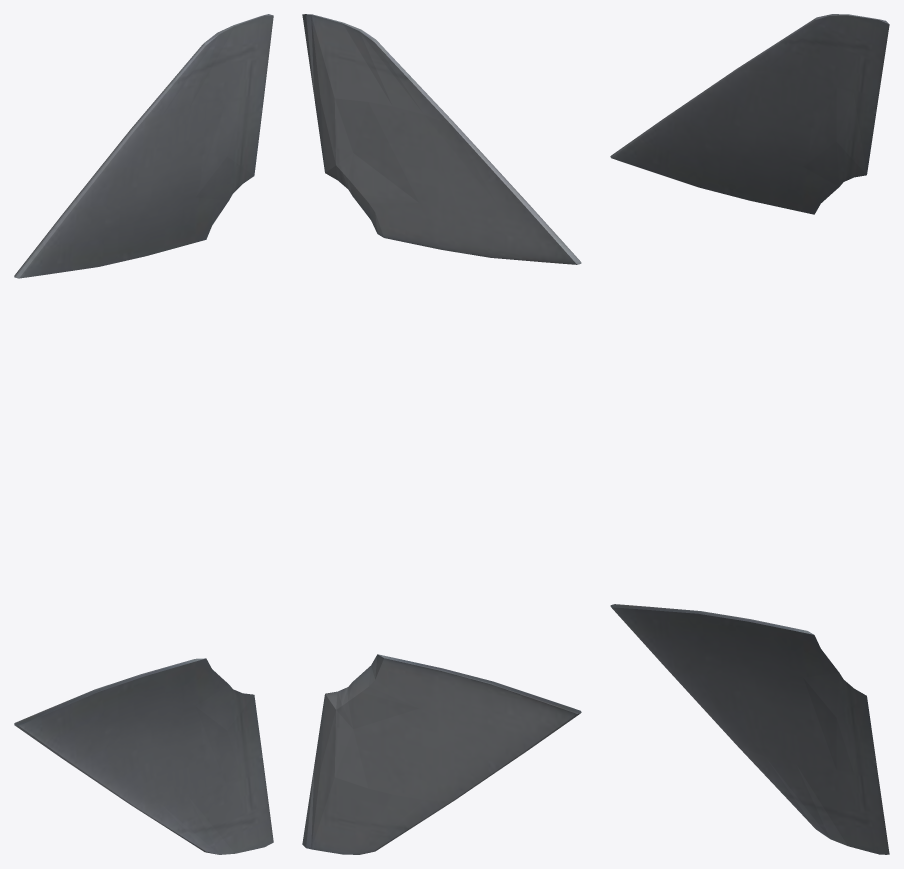
File: ailerons.fbx
The picture shows the model from 3 angles, left to right: view 1: azimuth 30°, elevation 25°; view 2: azimuth 150°, elevation 25°; view 3: azimuth 330°, elevation 25°; orthographic projection.
Parts seen in each view (by area): view 1: ShapeIndexedFaceSet; view 2: ShapeIndexedFaceSet; view 3: ShapeIndexedFaceSet.
Part boxes in pixels (left/top/right/bottom): ShapeIndexedFaceSet: left=14, top=14, right=273, bottom=854; ShapeIndexedFaceSet: left=302, top=14, right=581, bottom=854; ShapeIndexedFaceSet: left=610, top=14, right=889, bottom=854.
Bounding box in the file's own units: 1.54 × 4.55 × 0.1204.
